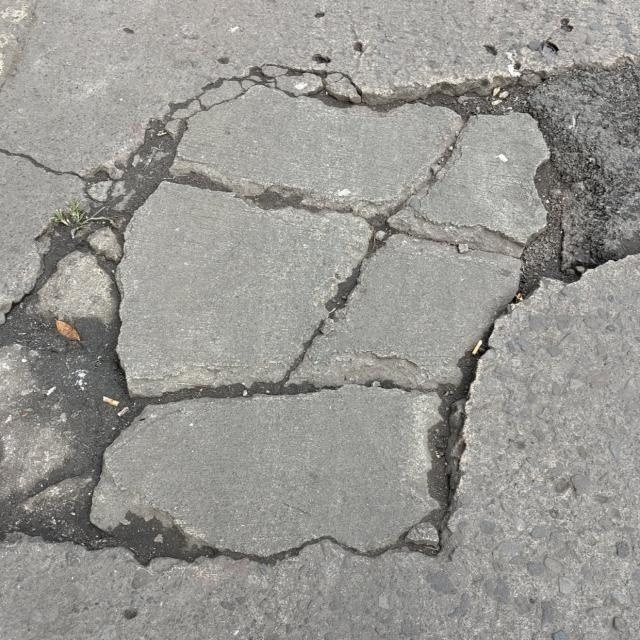pothole: (48, 42, 616, 609)
